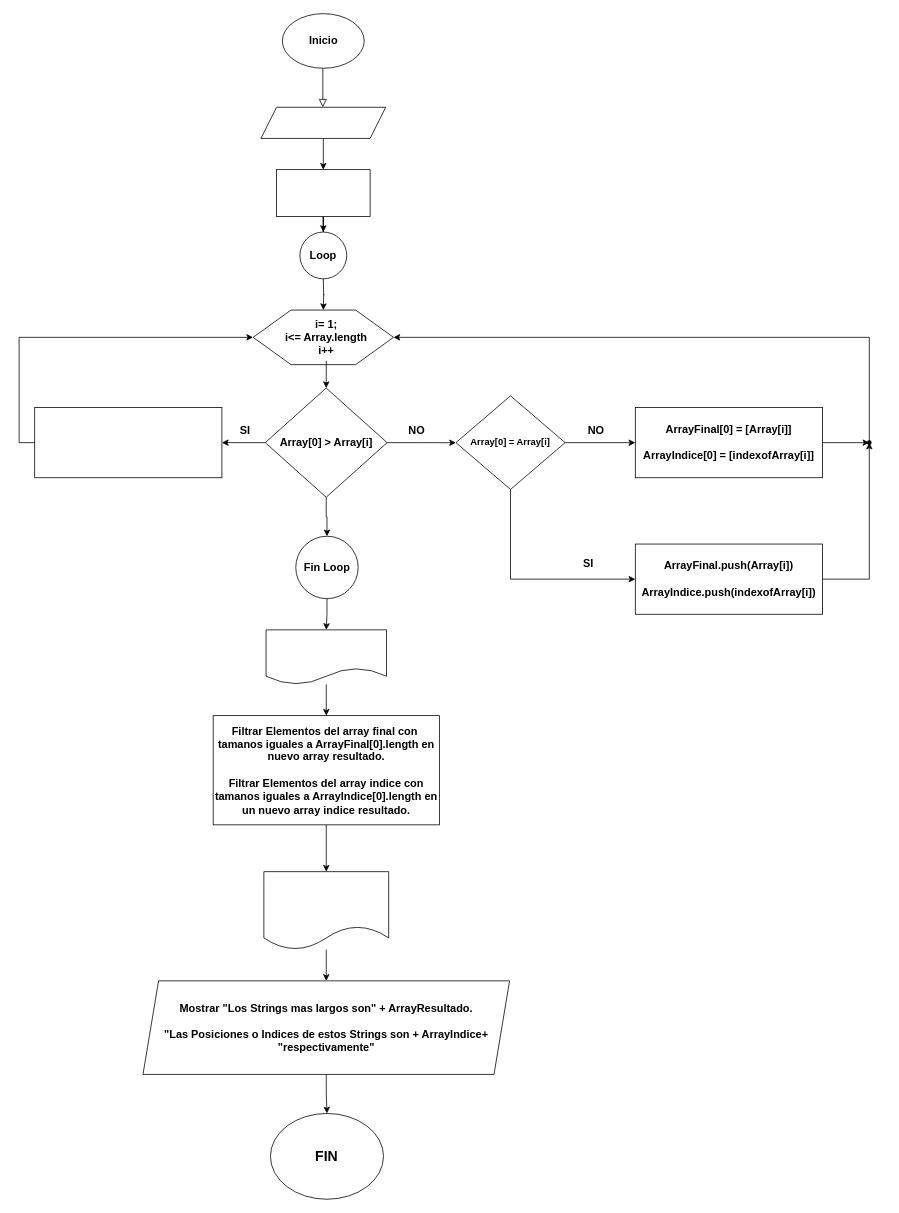
Image size: 899x1213. Some labels were removed from this diagram. The shapes that lost their labels are listed below. From the top down, each one's centre as x and y in pixels, then its label:
point (323, 122): Insertar Array de Elementos
point (323, 192): ArrayFinal = [0] ArrayIndice = [0]
point (128, 442): ArrayFinal[0] = [Array[0]] ArrayIndice[0] = [indexofArray[0]]
point (325, 656): ArrayFinal ArrayIndice
point (326, 910): ArrayResultado ArrayIndiceResultado
